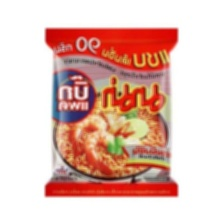snack: (37, 19, 187, 204)
